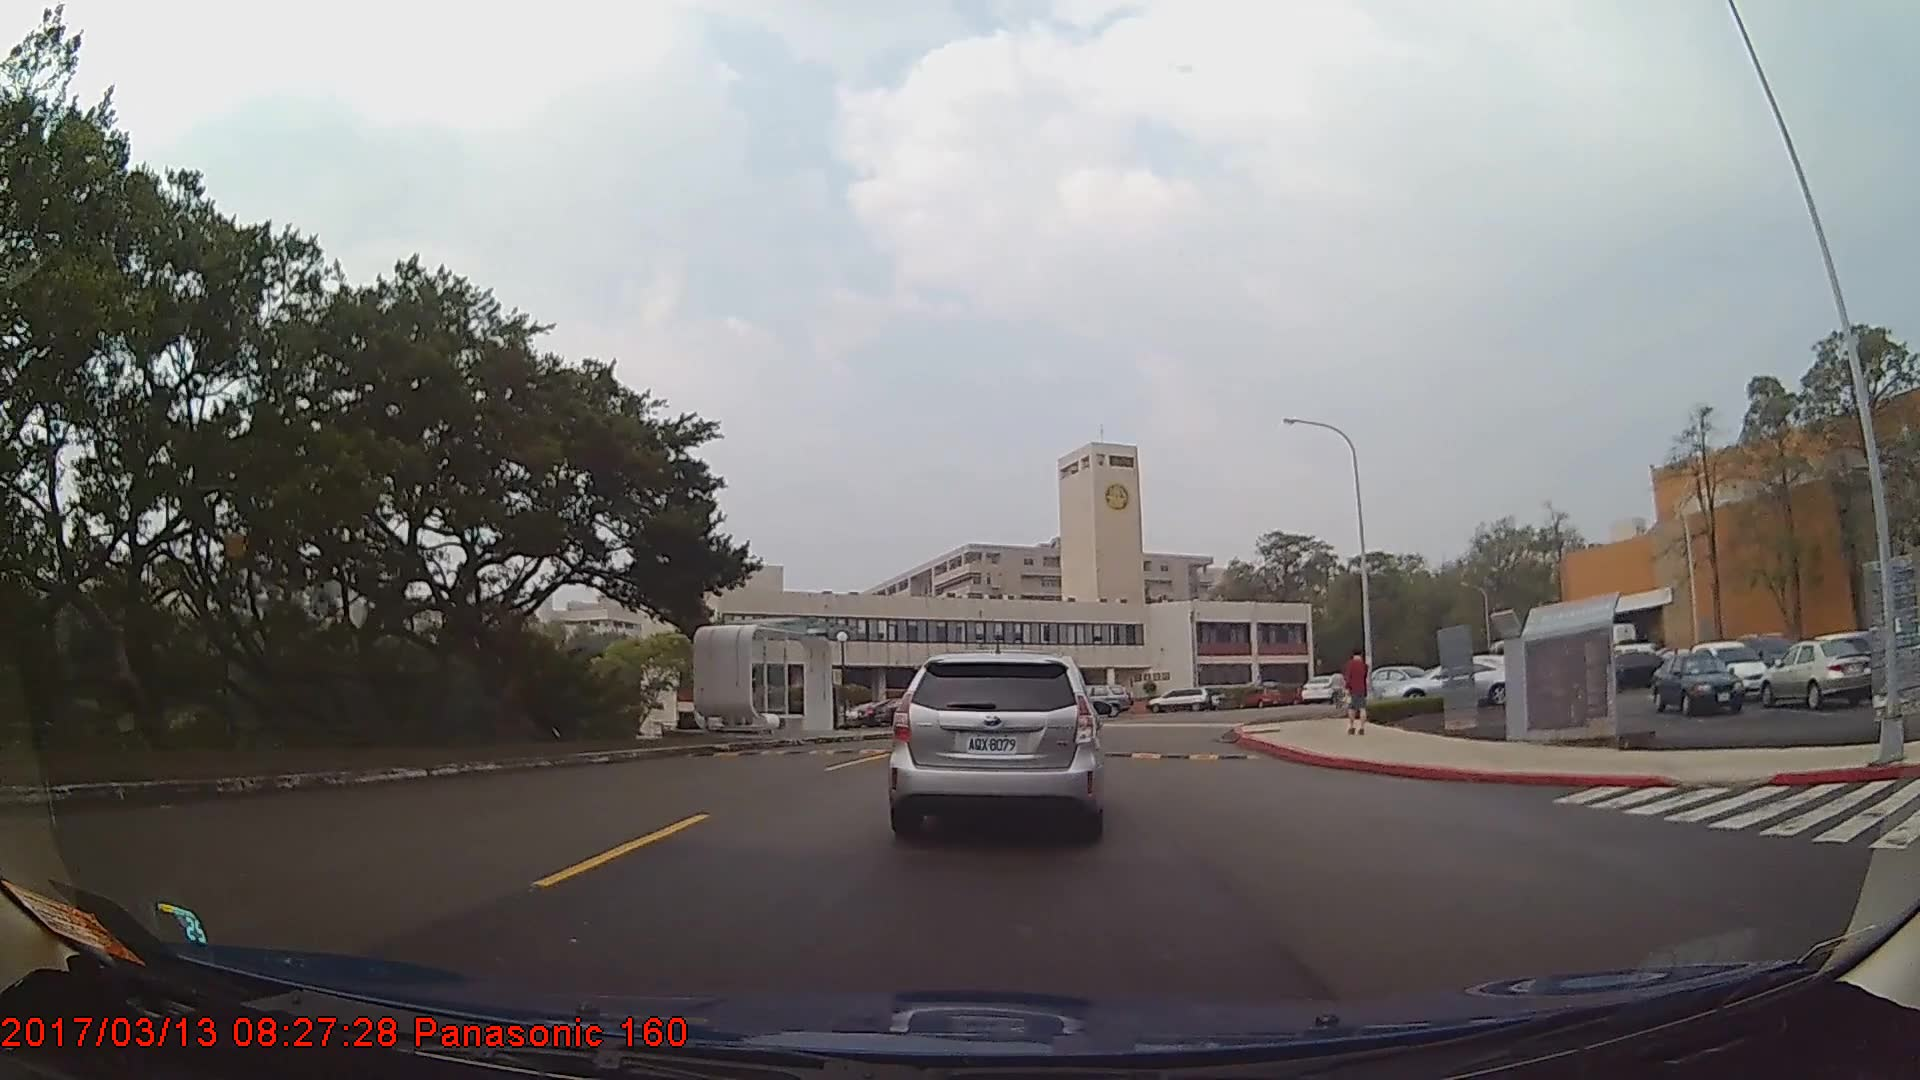pedestrian: (1341, 650, 1371, 745)
vehicle: (890, 648, 1098, 838), (1759, 638, 1871, 712), (1379, 659, 1520, 709), (1651, 655, 1744, 716), (1684, 642, 1769, 702), (1065, 681, 1135, 716), (1145, 684, 1211, 713), (1302, 672, 1342, 703)
